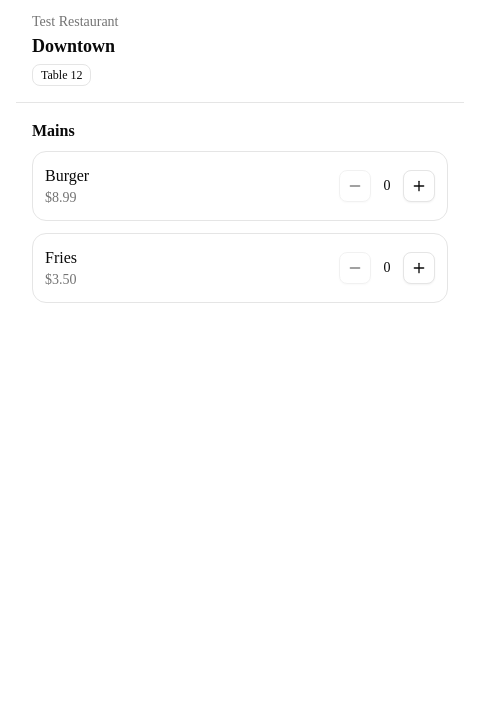
it: GuestOrderPage › removing an item back to zero hides the sticky bar again
Click the button named "Add one Burger" at [419, 186], box x1=403 y1=170 x2=435 y2=202
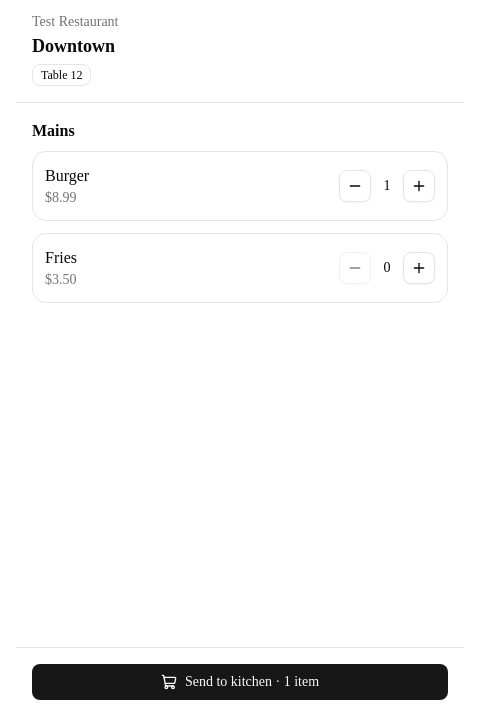
Click the button named "Remove one Burger" at [355, 186], box x1=339 y1=170 x2=371 y2=202
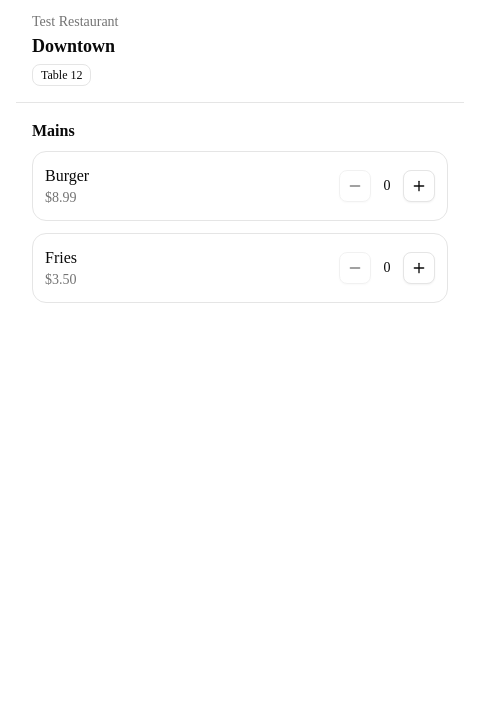
Now the button "Send to kitchen" is gone
